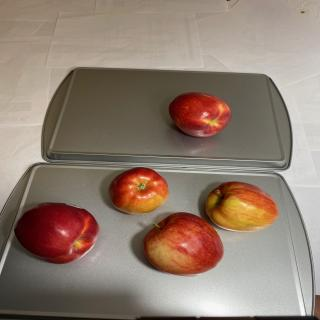Apple: (142, 212, 224, 277), (14, 202, 99, 264), (205, 181, 279, 232), (108, 167, 169, 215), (168, 92, 232, 137)
